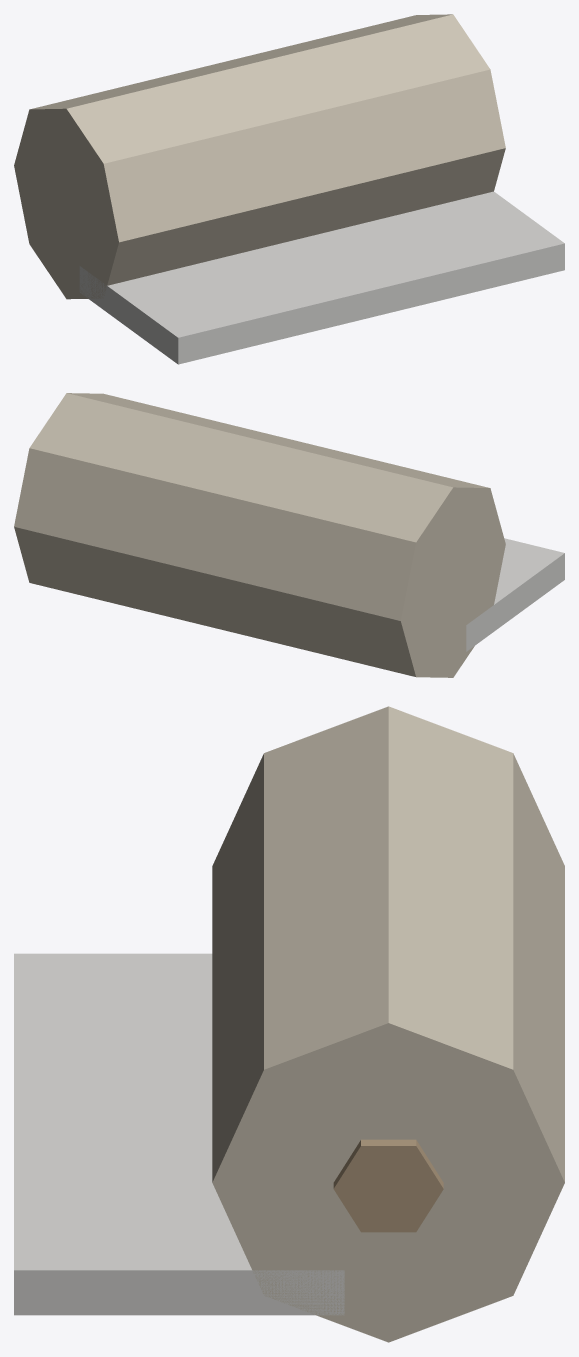
The model's file is linen-bolt.glb.
3 views of the same model, one above another, from view 1: azimuth 30°, elevation 25°; view 2: azimuth 150°, elevation 25°; view 3: azimuth 270°, elevation 25° (orthographic). The views are drawn at different scales.
Visible parts, largest first — view 1: linen_bolt; view 2: linen_bolt; view 3: linen_bolt.
Boxes of the visible parts, box(x1,y1,x2,y2) form: linen_bolt: box(14, 14, 564, 364); linen_bolt: box(14, 393, 564, 677); linen_bolt: box(14, 706, 564, 1342).
Bounding box in the file's own units: 0.2312 × 0.1067 × 0.1667.
